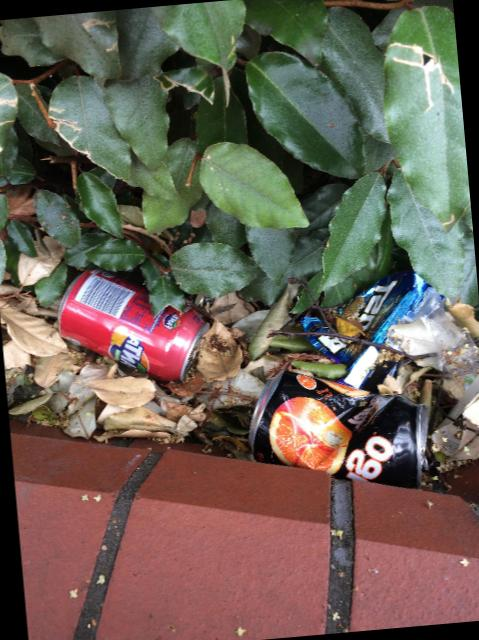metal: (248, 371, 427, 487), (57, 268, 207, 380)
